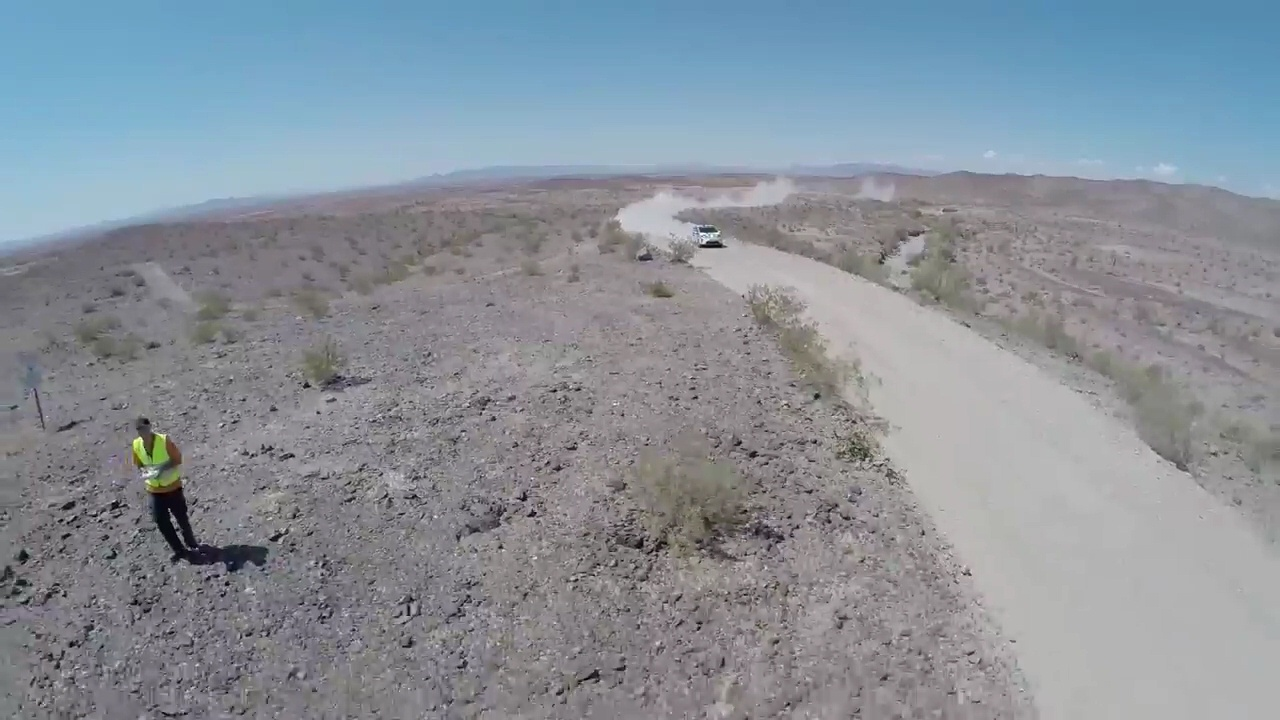araba: (689, 222, 724, 251)
insan: (130, 417, 206, 561)
